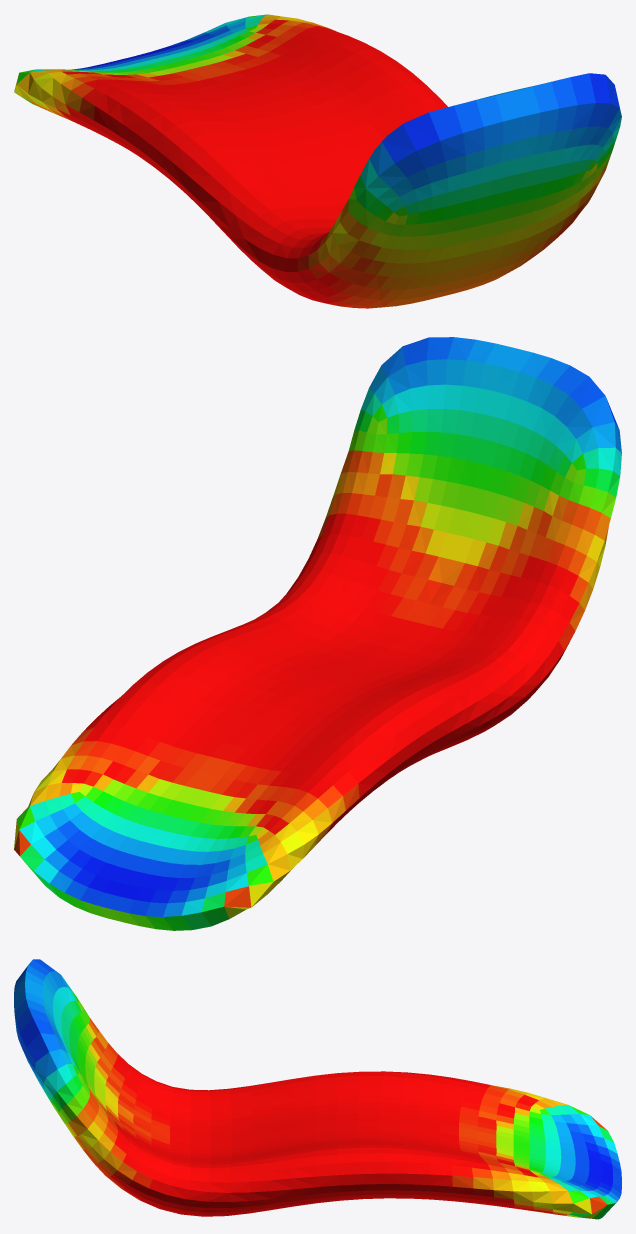
File: chair_opt_quality.obj
The picture shows the model from 3 angles, top to bottom: view 1: azimuth 30°, elevation 25°; view 2: azimuth 150°, elevation 25°; view 3: azimuth 270°, elevation 25°; orthographic projection. The views are drawn at different scales.
Size of the model in its own units: 2.43 by 2.5 by 6.46.
